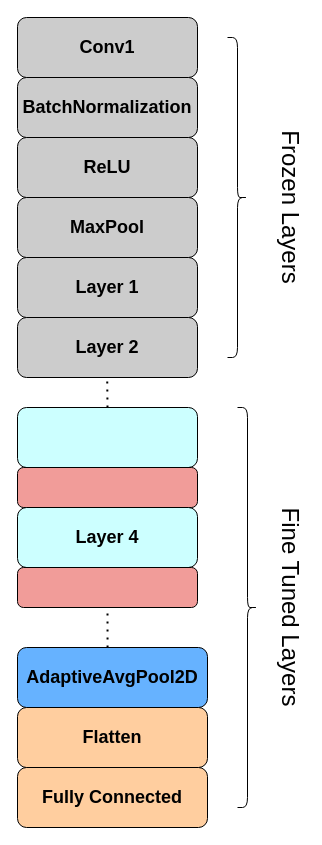
This 322x845 diagram has some shape labels left out. Here are the shapes that lost their labels. From the top down, the box of each, then its label:
(16, 406, 198, 468): Layer 3
(16, 466, 198, 508): PSA1
(16, 566, 198, 608): PSA2
